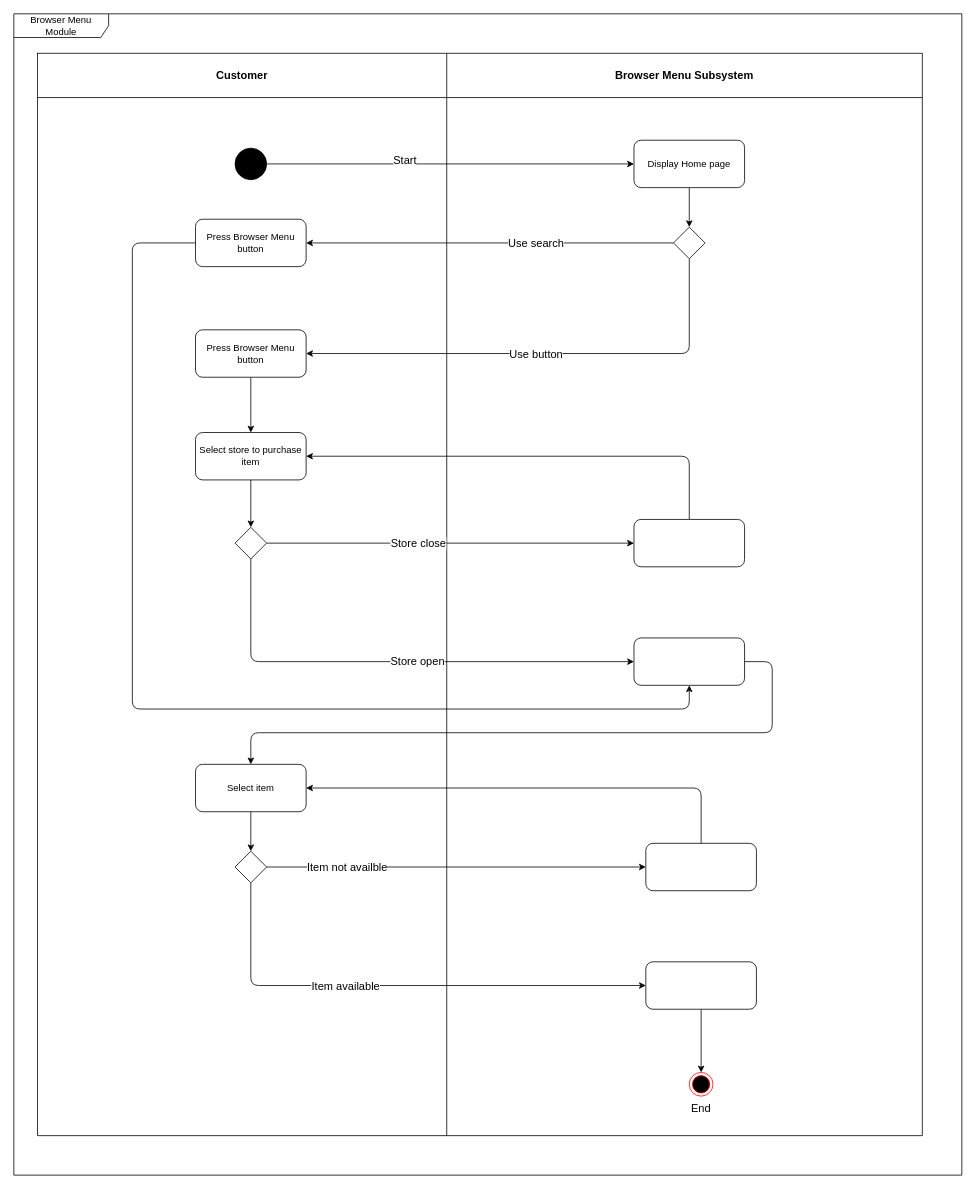
This 976x1189 diagram has some shape labels left out. The centre of each missing label's shape, as x and y in pixels:
"Display item" belongs at point 689,661.
"Display item page" belongs at point 700,985.
"Display not available" belongs at point 700,867.
"Display store close" belongs at point 689,543.
